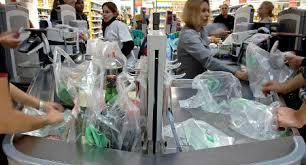Plastic bag: (51, 46, 143, 150), (162, 108, 240, 154), (241, 46, 297, 96), (230, 98, 286, 140), (186, 72, 241, 112)
